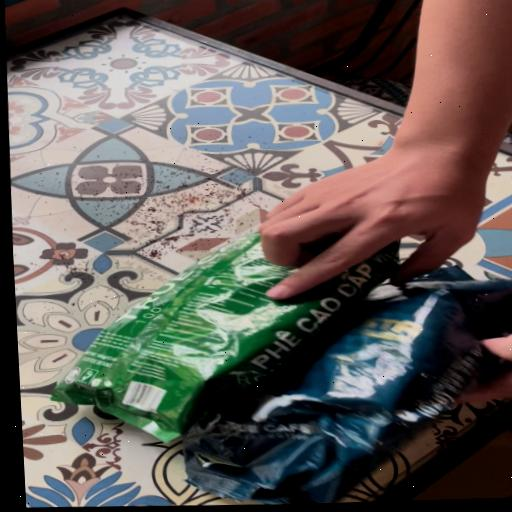cafe_hat: (183, 267, 512, 505)
cafe_xay: (52, 233, 399, 441)
